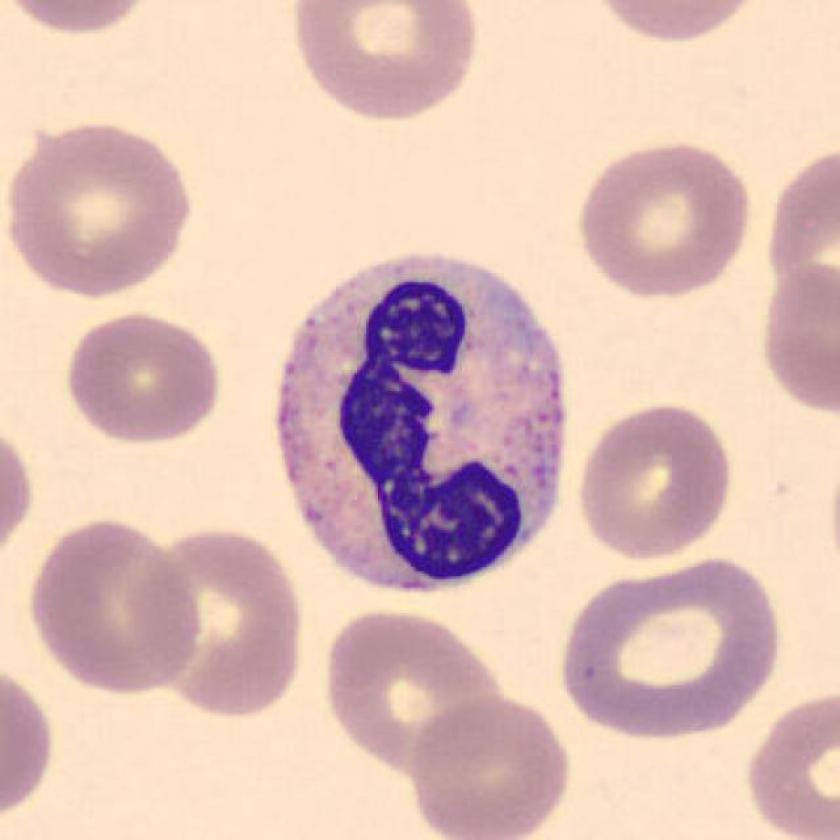neutrophil: (276, 256, 566, 590)
